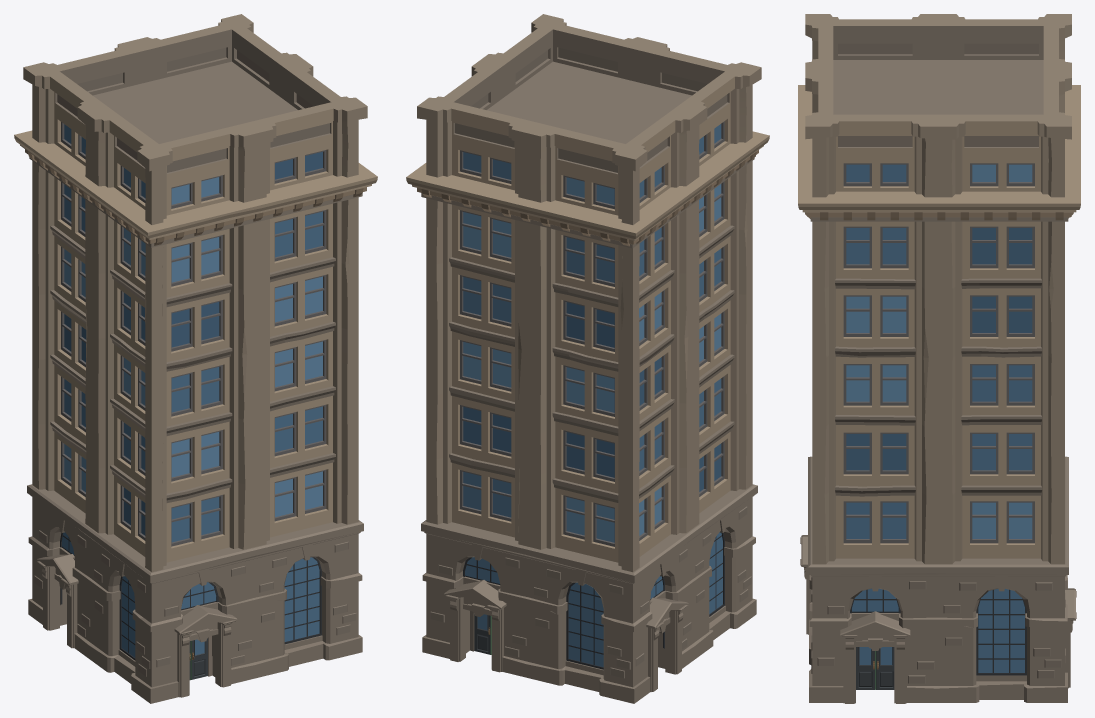
Rendered from bld_office_small.glb.
3 renders of one model, left to right at view 1: azimuth 30°, elevation 25°; view 2: azimuth 150°, elevation 25°; view 3: azimuth 270°, elevation 25°, orthographic. The views are drawn at different scales.
Parts seen in each view (by area): view 1: SM_Bld_OfficeOld_Small_01; view 2: SM_Bld_OfficeOld_Small_01; view 3: SM_Bld_OfficeOld_Small_01.
Boxes of the visible parts, box(x1,y1,x2,y2) form: SM_Bld_OfficeOld_Small_01: box(14, 14, 377, 703); SM_Bld_OfficeOld_Small_01: box(406, 14, 769, 703); SM_Bld_OfficeOld_Small_01: box(798, 14, 1080, 703).
Bounding box in the file's own units: 11.12 × 25.24 × 11.2.
Materials: 1 (1 with a texture image).
